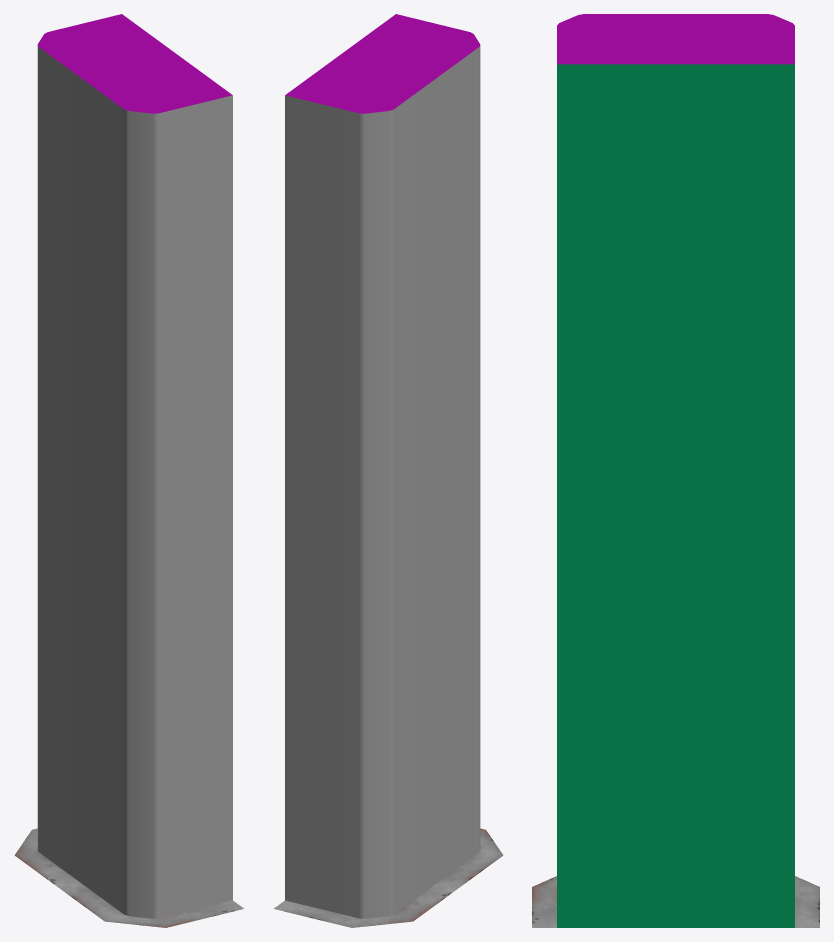
File: Wall_GW_Pillar_Top.fbx
3 renders of one model, left to right at view 1: azimuth 30°, elevation 25°; view 2: azimuth 150°, elevation 25°; view 3: azimuth 270°, elevation 25°, orthographic. The views are drawn at different scales.
Visible parts, largest first — view 1: Wall_GW_Pillar_Top, Wall_GW_Pillar, Wall_GW_Pillar_Trim; view 2: Wall_GW_Pillar_Top, Wall_GW_Pillar, Wall_GW_Pillar_Trim; view 3: Wall_GW_Pillar_Top, Wall_GW_Pillar, Wall_GW_Pillar_Trim.
Part boxes in pixels (x1=…): Wall_GW_Pillar_Top: x1=37, y1=14, x2=232, y2=516; Wall_GW_Pillar: x1=37, y1=447, x2=232, y2=918; Wall_GW_Pillar_Trim: x1=14, y1=828, x2=243, y2=927; Wall_GW_Pillar_Top: x1=285, y1=14, x2=480, y2=516; Wall_GW_Pillar: x1=285, y1=447, x2=480, y2=918; Wall_GW_Pillar_Trim: x1=274, y1=828, x2=503, y2=927; Wall_GW_Pillar_Top: x1=557, y1=14, x2=794, y2=496; Wall_GW_Pillar: x1=557, y1=496, x2=794, y2=927; Wall_GW_Pillar_Trim: x1=532, y1=876, x2=819, y2=927.
Size of the model in its own units: 30.62 by 200 by 60.38.
